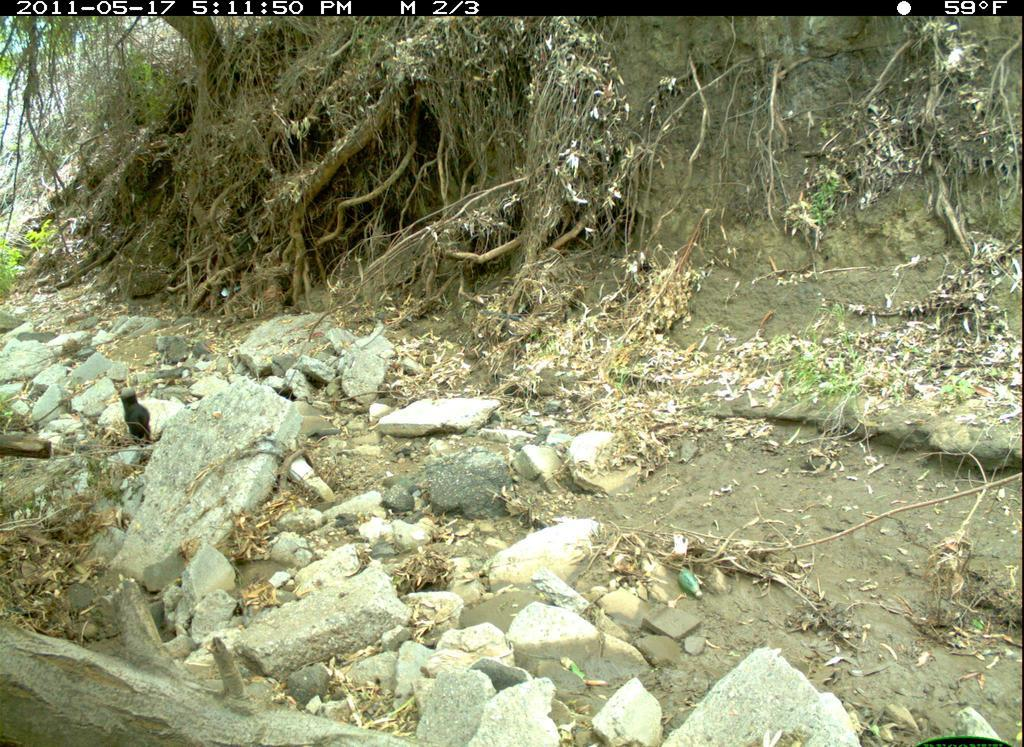cat: (109, 387, 167, 452)
